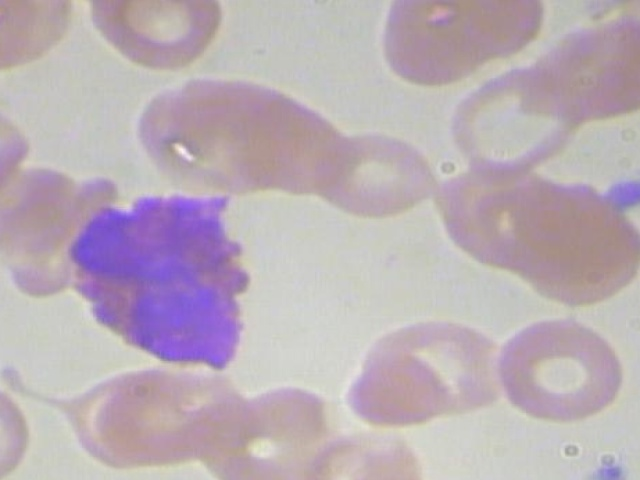Platelets: (583, 447, 640, 480), (597, 174, 640, 214)
RBC: (61, 363, 237, 473), (487, 311, 635, 427), (444, 65, 588, 184), (372, 0, 547, 90), (308, 127, 439, 218), (80, 0, 232, 73), (343, 345, 454, 424), (0, 0, 82, 86), (301, 425, 425, 480), (0, 375, 35, 480)
WBC: (53, 183, 270, 391)
